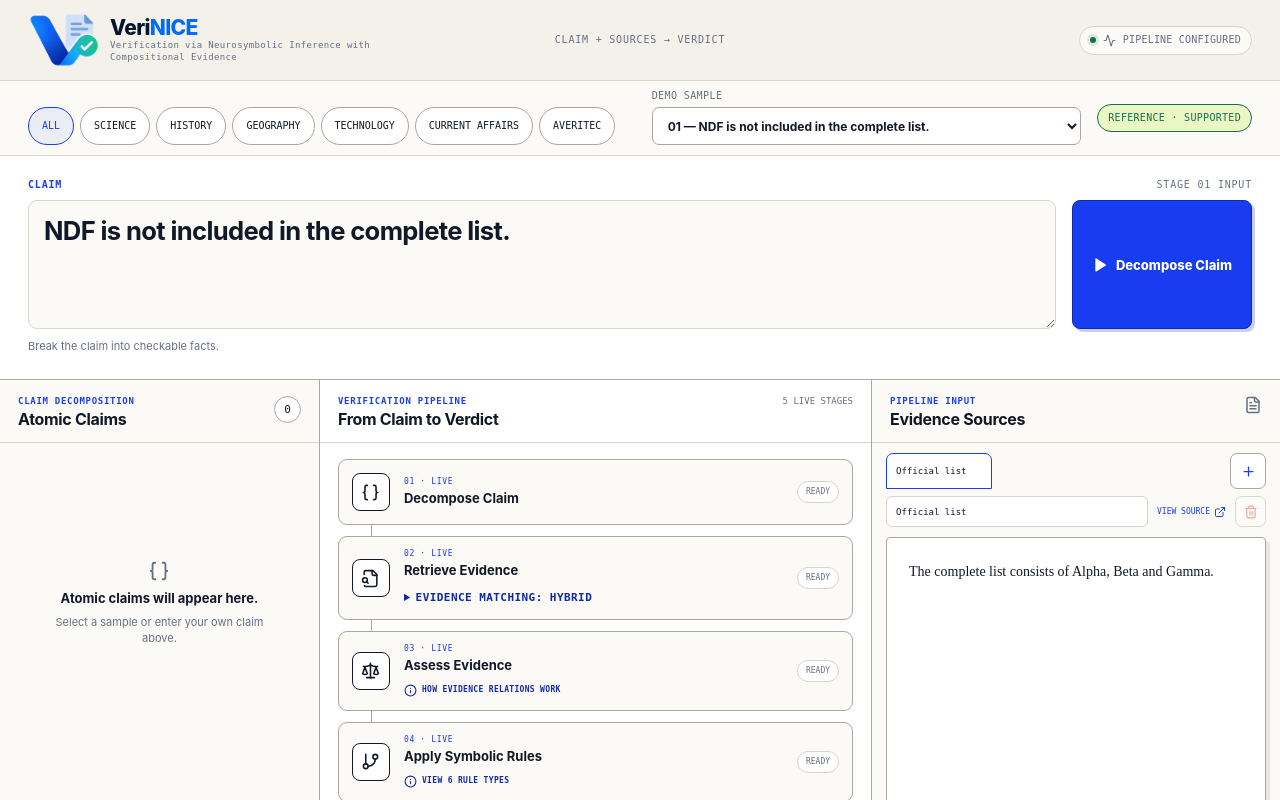
Test: live program-guided workflow › shows the selected atom's rule result without model attribution or a confidence score
Click the button "Decompose Claim": (1162, 265) top-left (1072, 200), bottom-right (1252, 329)
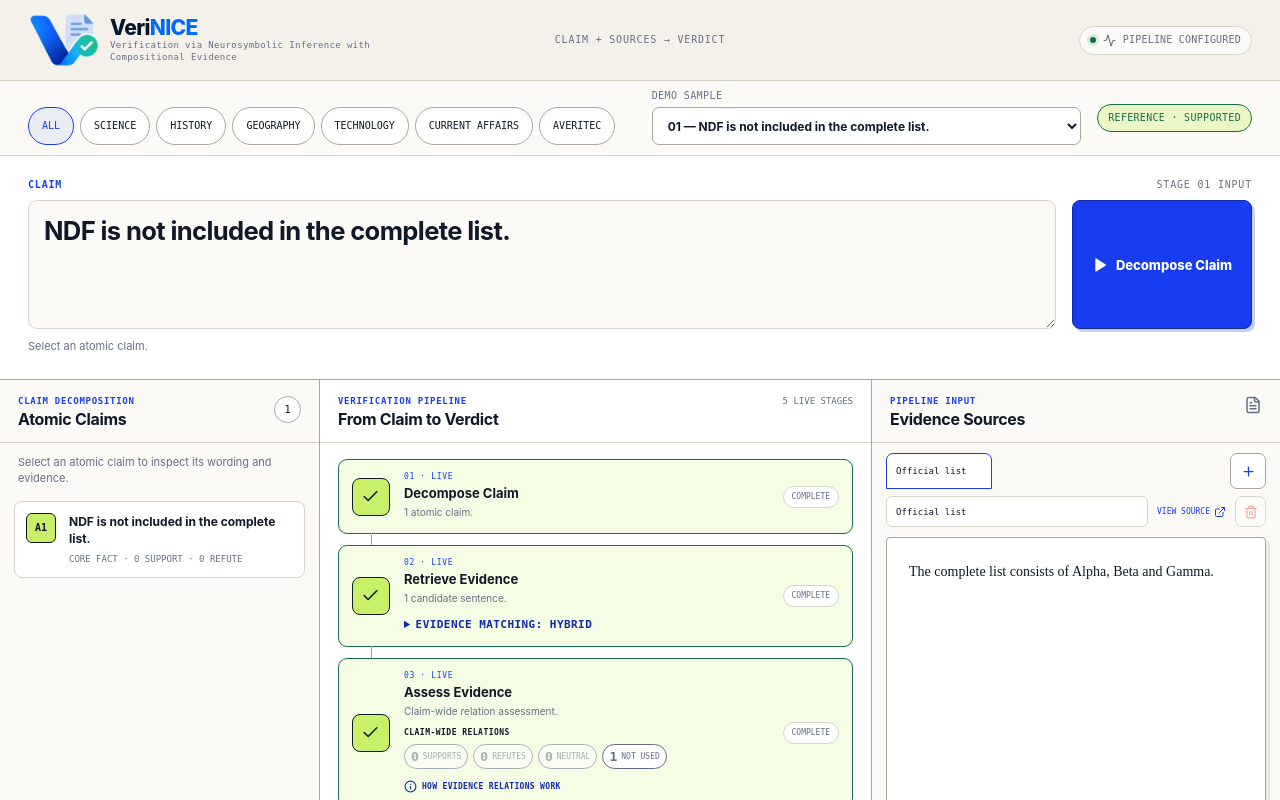
Click the button "NDF is not included in the complete list.": (172, 522) top-left (14, 501), bottom-right (305, 578)
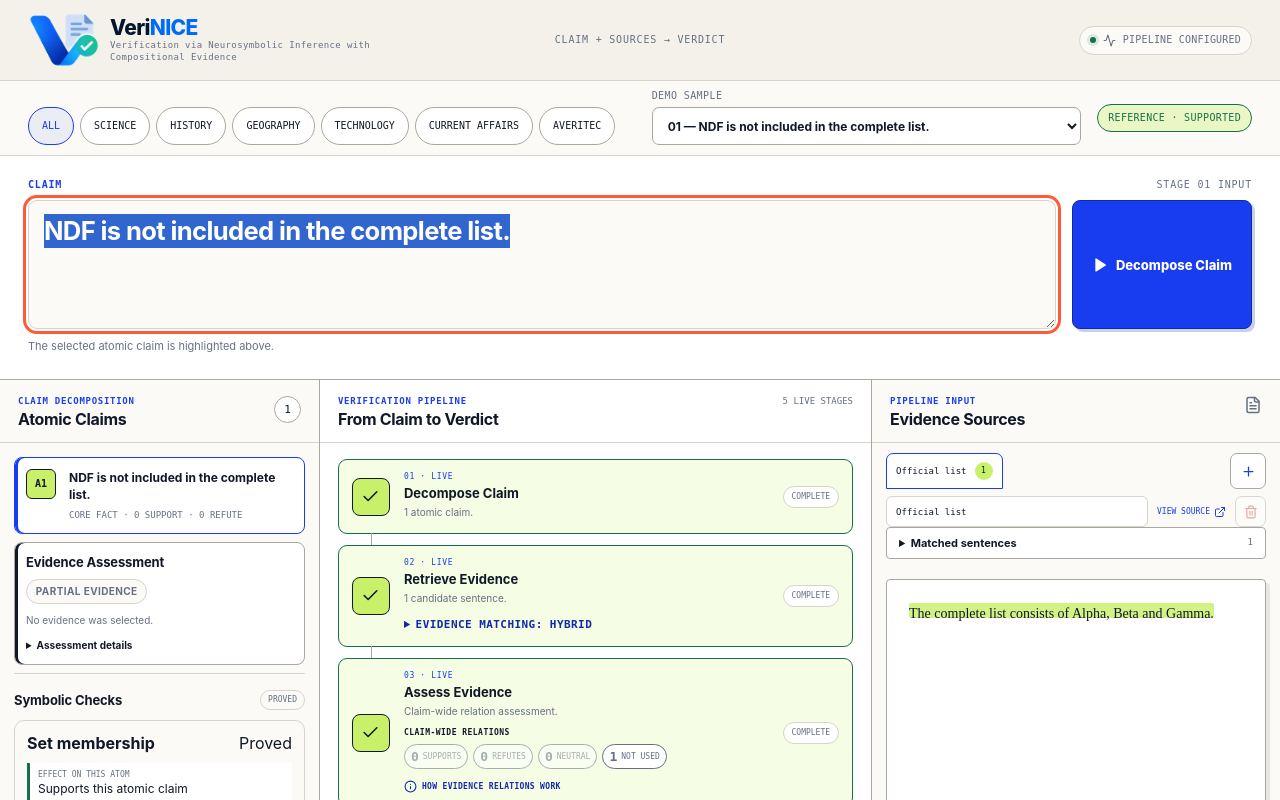
Check: the text "Proved" next to "Symbolic Checks" is shown, box top-left (268, 695), bottom-right (297, 704)
